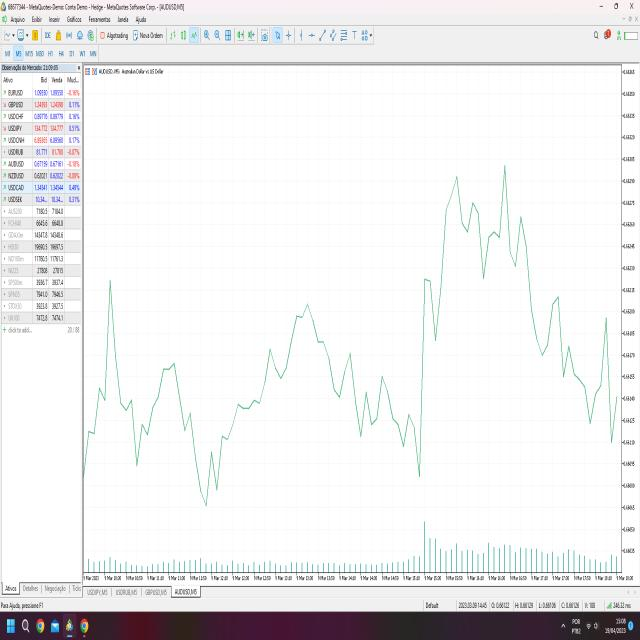fundo_duplo: (177, 406, 237, 518)
oco: (262, 257, 361, 443), (85, 276, 138, 479)
